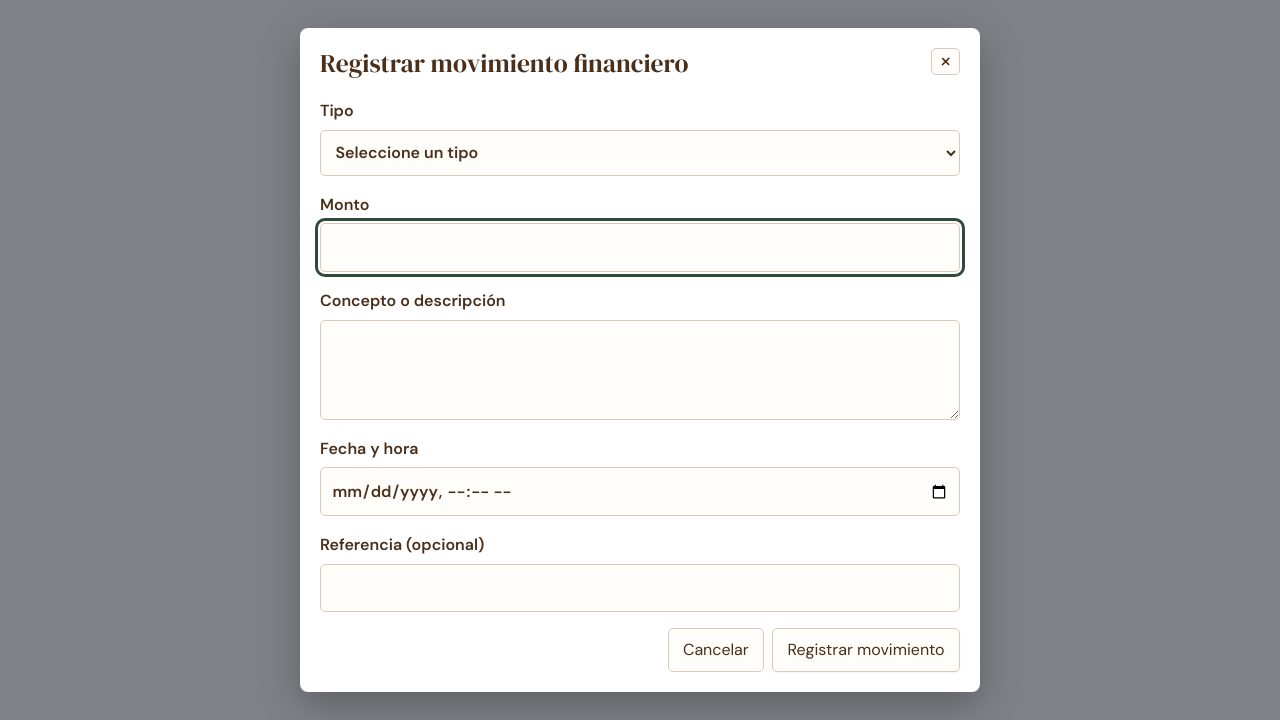
it: FinancialMovementFormModal › shows required validation errors without submitting
Click the button "Registrar movimiento". click: (866, 650)
box: [772,628,960,672]
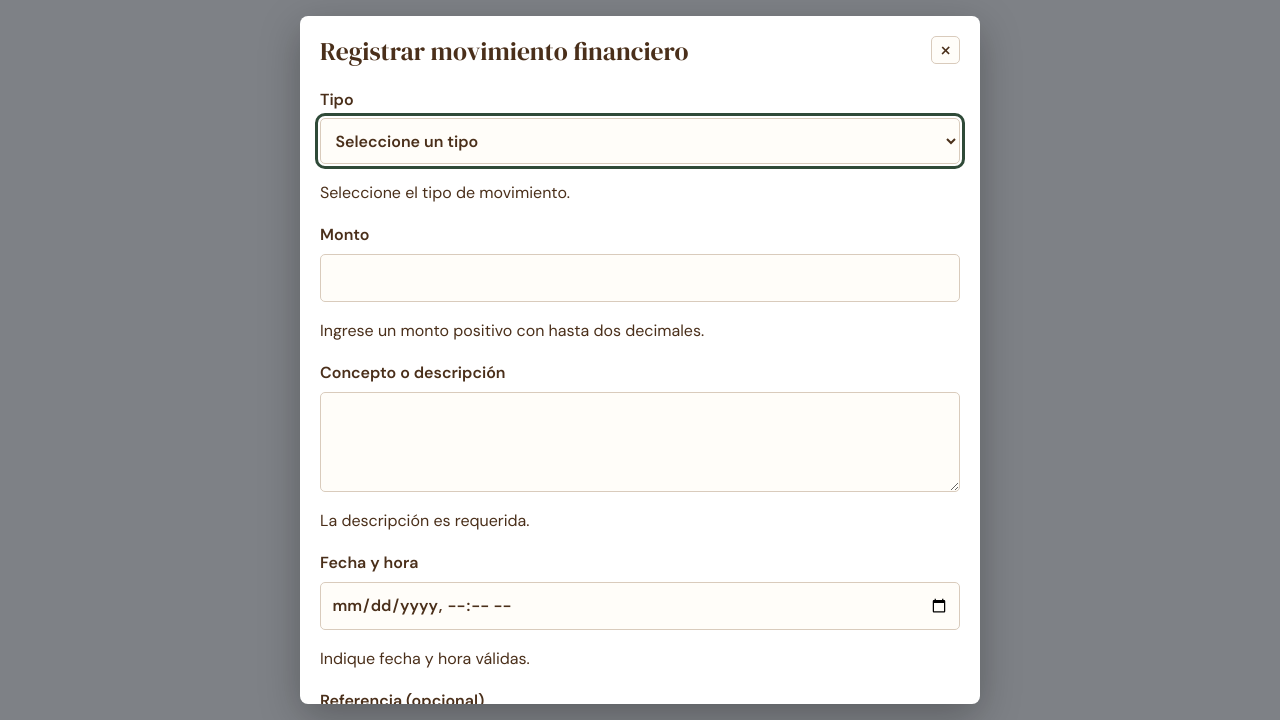
Now the text "Seleccione el tipo de movimiento." is shown, box [320,182,570,203]
